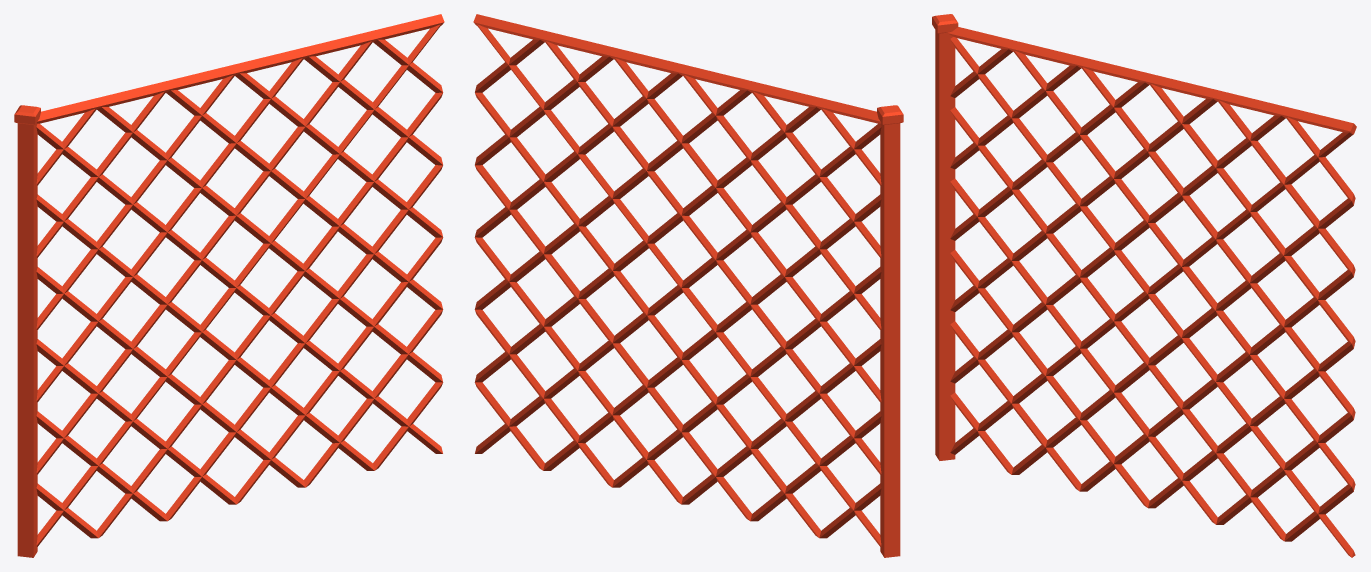
File: SM_Fence_Chainlink_Low_2m_City.fbx
The picture shows the model from 3 angles, left to right: view 1: azimuth 30°, elevation 25°; view 2: azimuth 150°, elevation 25°; view 3: azimuth 330°, elevation 25°; orthographic projection.
Visible parts, largest first — view 1: SM_Fence_Chainlink_Low_2m_City; view 2: SM_Fence_Chainlink_Low_2m_City; view 3: SM_Fence_Chainlink_Low_2m_City.
Boxes of the visible parts, x1,y1,x2,y2 form: SM_Fence_Chainlink_Low_2m_City: [14, 14, 444, 557]; SM_Fence_Chainlink_Low_2m_City: [473, 14, 903, 557]; SM_Fence_Chainlink_Low_2m_City: [932, 14, 1356, 557].
Bounding box in the file's own units: 2.06 × 2.05 × 0.1295.
